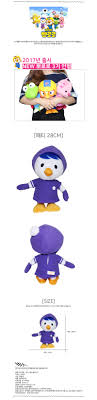Petty: (17, 144, 71, 215), (30, 313, 62, 349)
